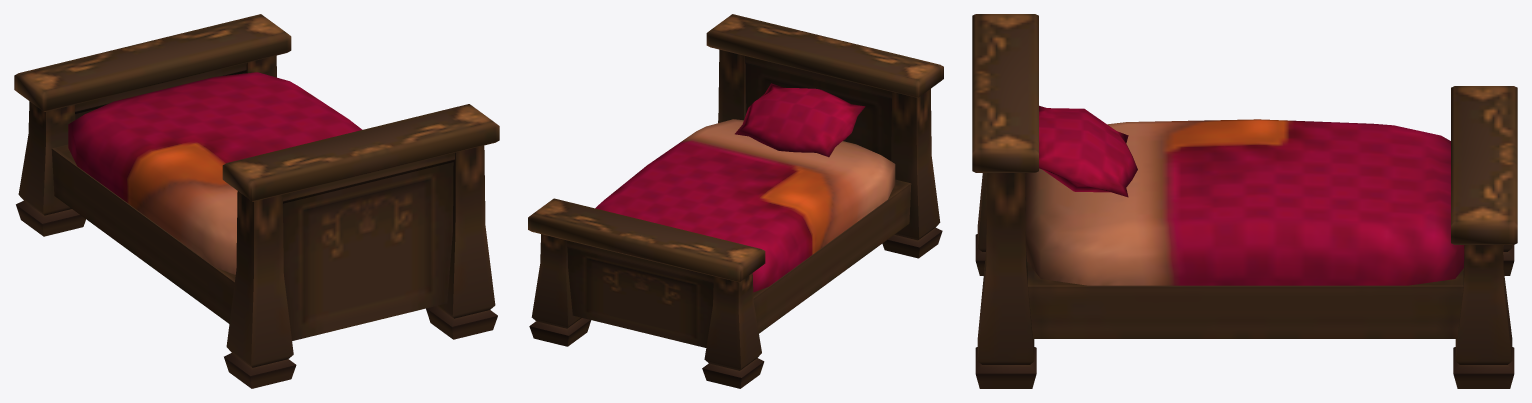
The model's file is Single_Bed_02.gltf.
3 renders of one model, left to right at view 1: azimuth 30°, elevation 25°; view 2: azimuth 150°, elevation 25°; view 3: azimuth 270°, elevation 25°, orthographic. The views are drawn at different scales.
Parts seen in each view (by area): view 1: Single_Bed_02; view 2: Single_Bed_02; view 3: Single_Bed_02.
Boxes of the visible parts, box(x1,y1,x2,y2) form: Single_Bed_02: box(14, 14, 499, 388); Single_Bed_02: box(528, 14, 943, 388); Single_Bed_02: box(972, 14, 1517, 388).
Size of the model in its own units: 58.55 by 47.03 by 97.12.
1 material, 1 textured.
